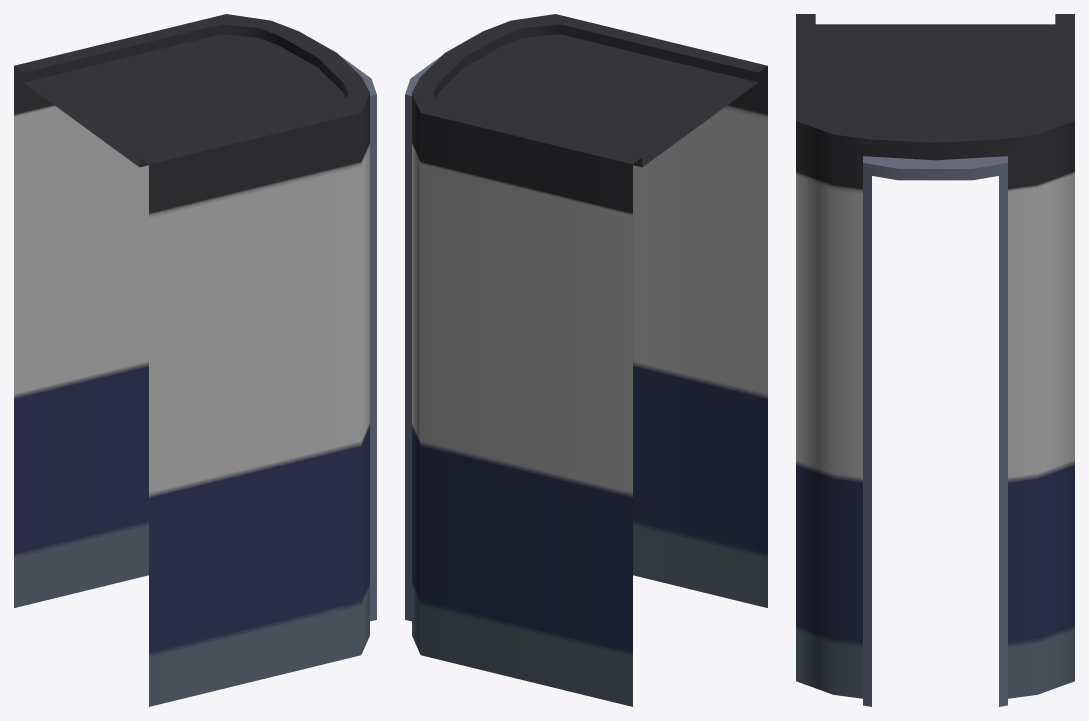
File: Parede1Arredondada2.fbx
The picture shows the model from 3 angles, left to right: view 1: azimuth 30°, elevation 25°; view 2: azimuth 150°, elevation 25°; view 3: azimuth 270°, elevation 25°; orthographic projection. The views are drawn at different scales.
Visible parts, largest first — view 1: Parede1Arredondada2; view 2: Parede1Arredondada2; view 3: Parede1Arredondada2.
Part boxes in pixels (<box>): Parede1Arredondada2: <box>14,14,376,706</box>; Parede1Arredondada2: <box>405,14,767,706</box>; Parede1Arredondada2: <box>796,14,1074,706</box>.
Bounding box in the file's own units: 155 × 295 × 133.
